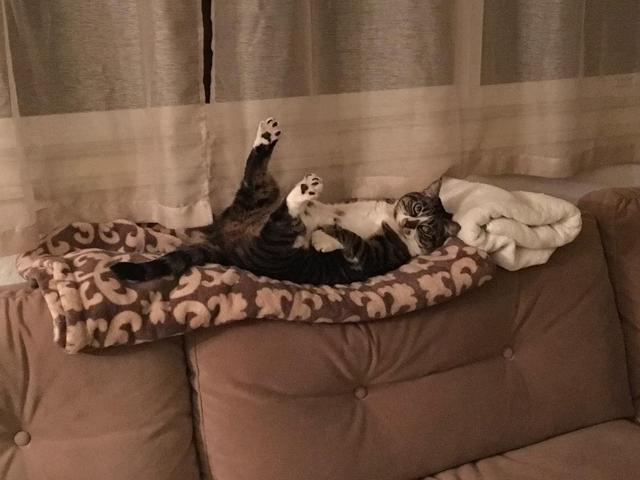playdoh: (110, 112, 460, 288)
